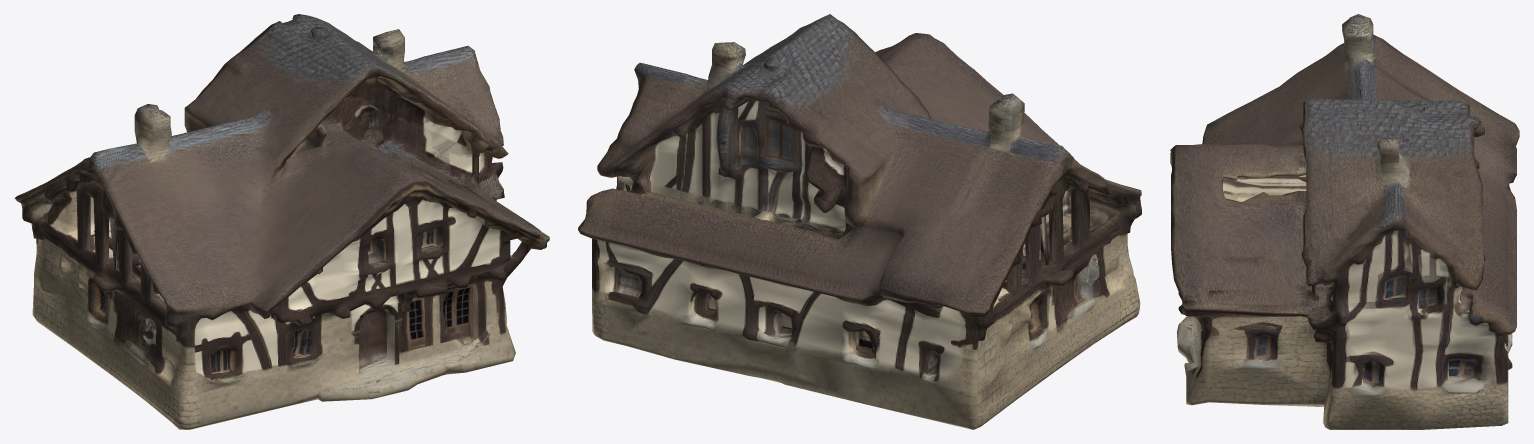
Rendered from Farm_House.glb.
3 renders of one model, left to right at view 1: azimuth 30°, elevation 25°; view 2: azimuth 150°, elevation 25°; view 3: azimuth 270°, elevation 25°, orthographic. The views are drawn at different scales.
Visible parts, largest first — view 1: mesh_node; view 2: mesh_node; view 3: mesh_node.
Boxes of the visible parts, x1,y1,x2,y2 form: mesh_node: (14, 14, 549, 429); mesh_node: (578, 14, 1141, 429); mesh_node: (1170, 14, 1519, 429).
Bounding box in the file's own units: 1.9 × 1.22 × 1.45.
Materials: 1 (1 with a texture image).
